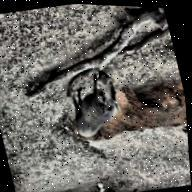boar: (61, 71, 145, 160)
